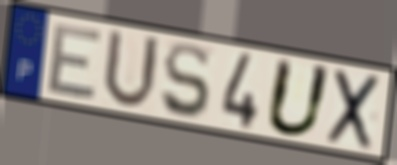4: (220, 49, 260, 133)
E: (44, 21, 105, 102)
S: (159, 41, 212, 121)
U: (262, 55, 335, 139), (99, 25, 162, 112)
X: (323, 67, 383, 153)
